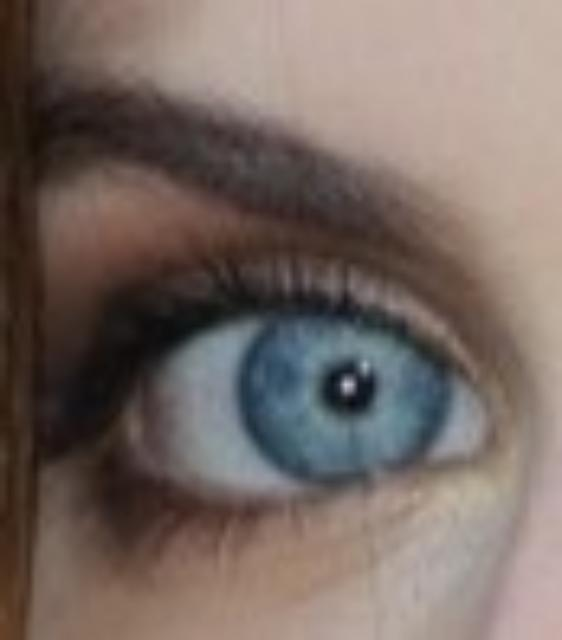eye: (242, 290, 456, 496)
